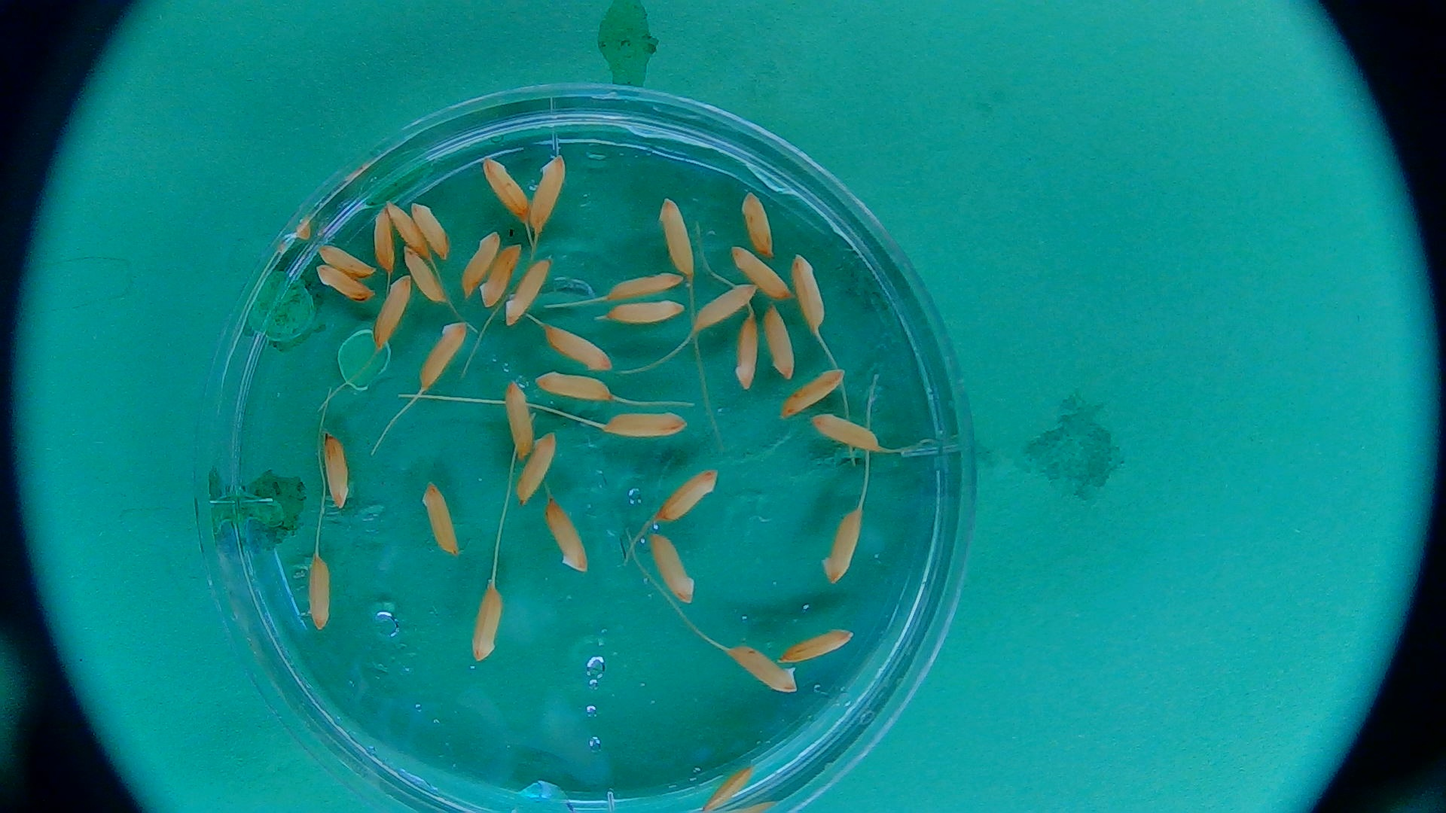no: (506, 428, 559, 507), (420, 317, 471, 394), (547, 495, 594, 577), (601, 406, 697, 445), (547, 322, 618, 374), (823, 505, 868, 583), (531, 366, 621, 404), (730, 249, 797, 300), (731, 645, 798, 696), (385, 198, 433, 269), (650, 534, 700, 602), (808, 411, 883, 456), (313, 259, 374, 314), (690, 282, 758, 330), (400, 246, 450, 311), (418, 481, 459, 559), (477, 241, 522, 312), (497, 373, 532, 463), (657, 199, 697, 276), (661, 474, 721, 525), (694, 765, 758, 811), (485, 158, 532, 220), (504, 260, 548, 325), (786, 374, 848, 420), (461, 229, 499, 304), (299, 553, 335, 632), (408, 202, 456, 261), (533, 156, 568, 235), (317, 236, 376, 282), (794, 251, 828, 330), (779, 628, 858, 662), (740, 190, 778, 260), (376, 276, 411, 351), (319, 434, 352, 513), (763, 308, 795, 382), (603, 301, 690, 328), (599, 279, 691, 303), (475, 586, 504, 660), (732, 317, 760, 392), (373, 206, 401, 276)
